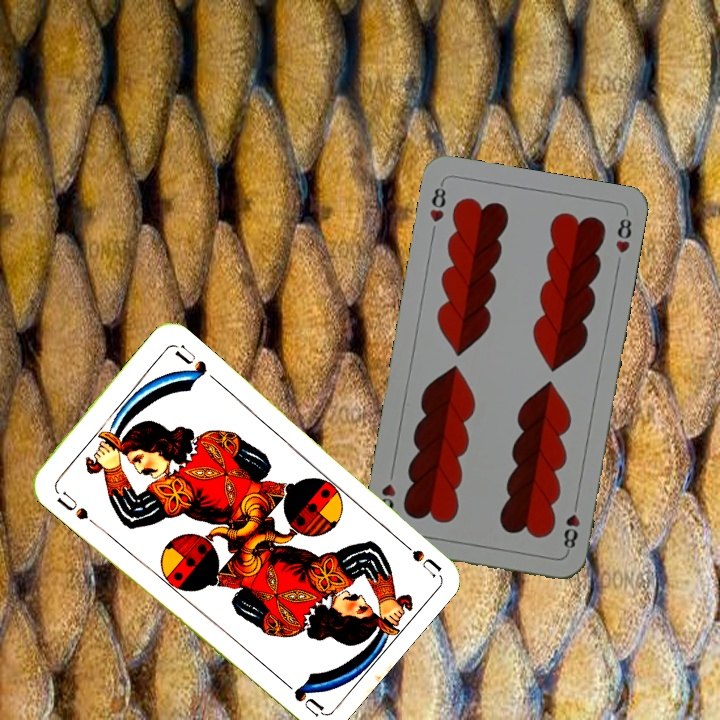H8: (559, 496, 583, 555), (425, 179, 449, 225)
SU: (391, 532, 443, 578), (50, 484, 91, 523)
